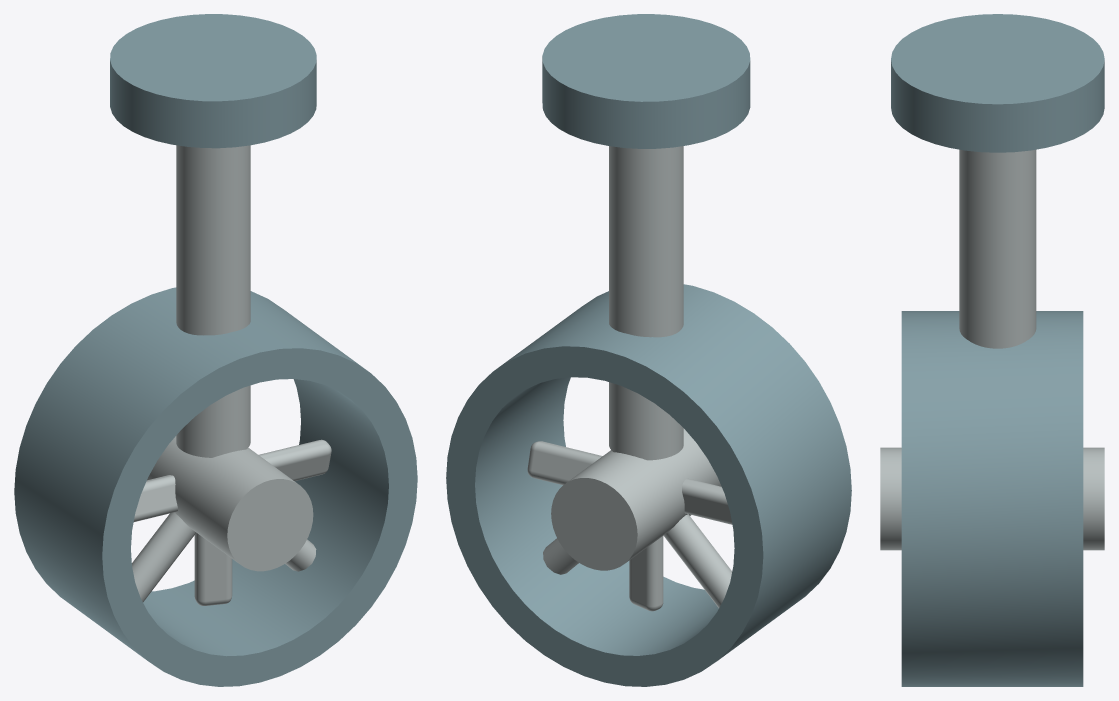
Rendered from abandoned-tidal-model-testing-hall-miniature-azimuth-t-a4ad19c4__32360.glb.
The picture shows the model from 3 angles, left to right: view 1: azimuth 30°, elevation 25°; view 2: azimuth 150°, elevation 25°; view 3: azimuth 270°, elevation 25°; orthographic projection. The views are drawn at different scales.
Parts seen in each view (by area): view 1: miniature-azimuth-thruster; view 2: miniature-azimuth-thruster; view 3: miniature-azimuth-thruster.
Boxes of the visible parts, <box> form: miniature-azimuth-thruster: <box>14,14,417,686</box>; miniature-azimuth-thruster: <box>446,14,851,686</box>; miniature-azimuth-thruster: <box>880,14,1104,686</box>.
Bounding box in the file's own units: 0.176 × 0.315 × 0.105.
